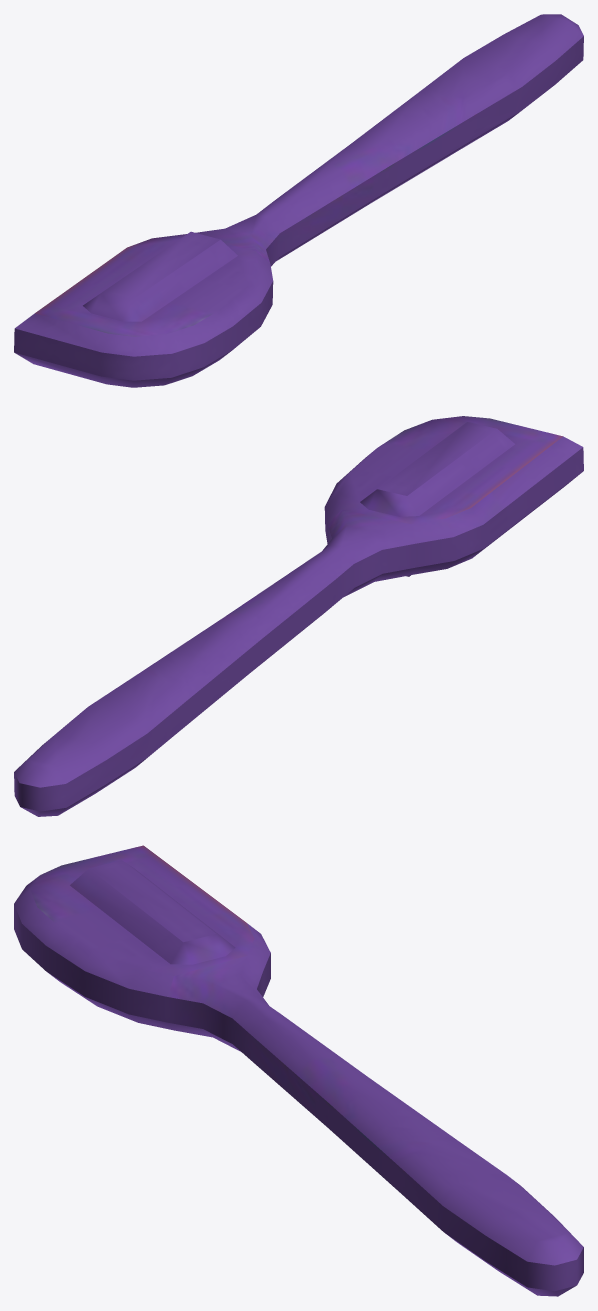
The model's file is spatula.gltf.
3 views of the same model, one above another, from view 1: azimuth 30°, elevation 25°; view 2: azimuth 210°, elevation 25°; view 3: azimuth 270°, elevation 25° (orthographic). The views are drawn at different scales.
Parts seen in each view (by area): view 1: Spatula; view 2: Spatula; view 3: Spatula.
Boxes of the visible parts, x1,y1,x2,y2 form: Spatula: (14,14,583,387); Spatula: (14,416,583,816); Spatula: (14,845,583,1296).
Bounding box in the file's own units: 0.2917 × 0.0313 × 0.1766.
Materials: 1 (1 with a texture image).
